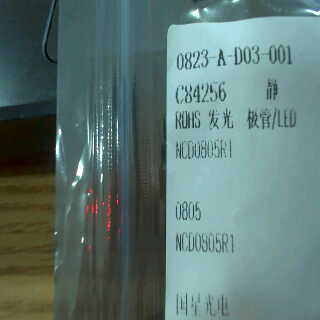LED: (201, 101, 307, 132)
